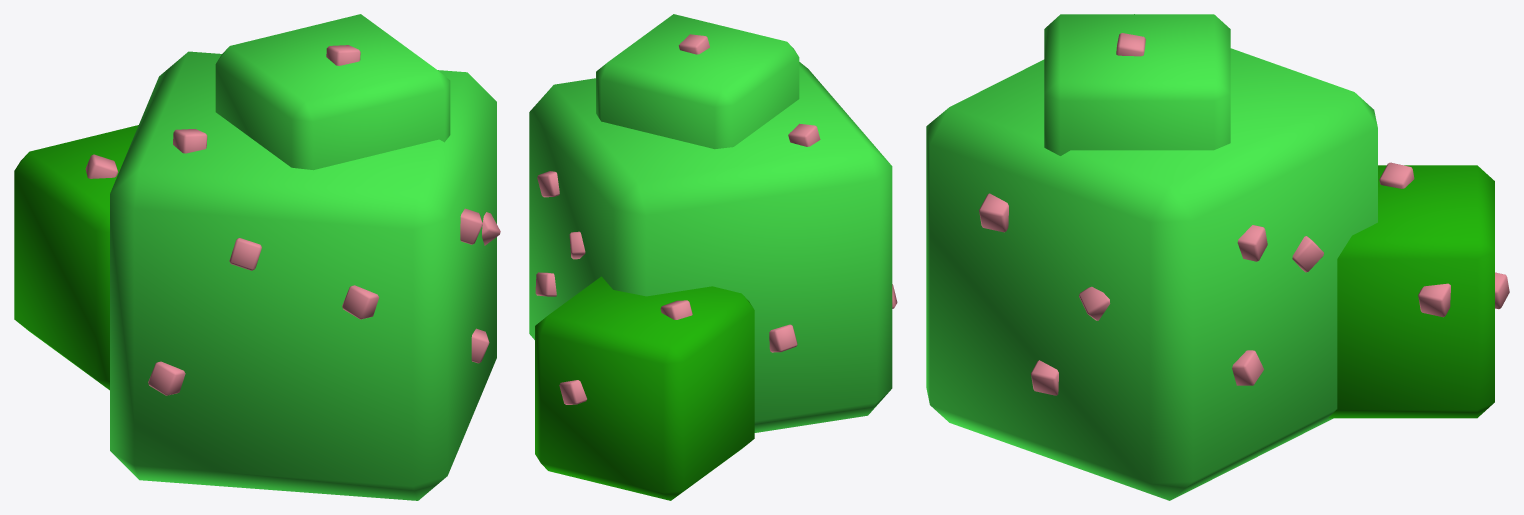
File: brush_3_roses.fbx
3 views of the same model, side by side, from view 1: azimuth 30°, elevation 25°; view 2: azimuth 150°, elevation 25°; view 3: azimuth 270°, elevation 25° (orthographic). The views are drawn at different scales.
Visible parts, largest first — view 1: bushes with roses; view 2: bushes with roses; view 3: bushes with roses.
Boxes of the visible parts, x1=… form: bushes with roses: x1=14, y1=14, x2=500, y2=500; bushes with roses: x1=529, y1=14, x2=897, y2=500; bushes with roses: x1=926, y1=14, x2=1509, y2=500.
Size of the model in its own units: 357 by 342 by 461.
